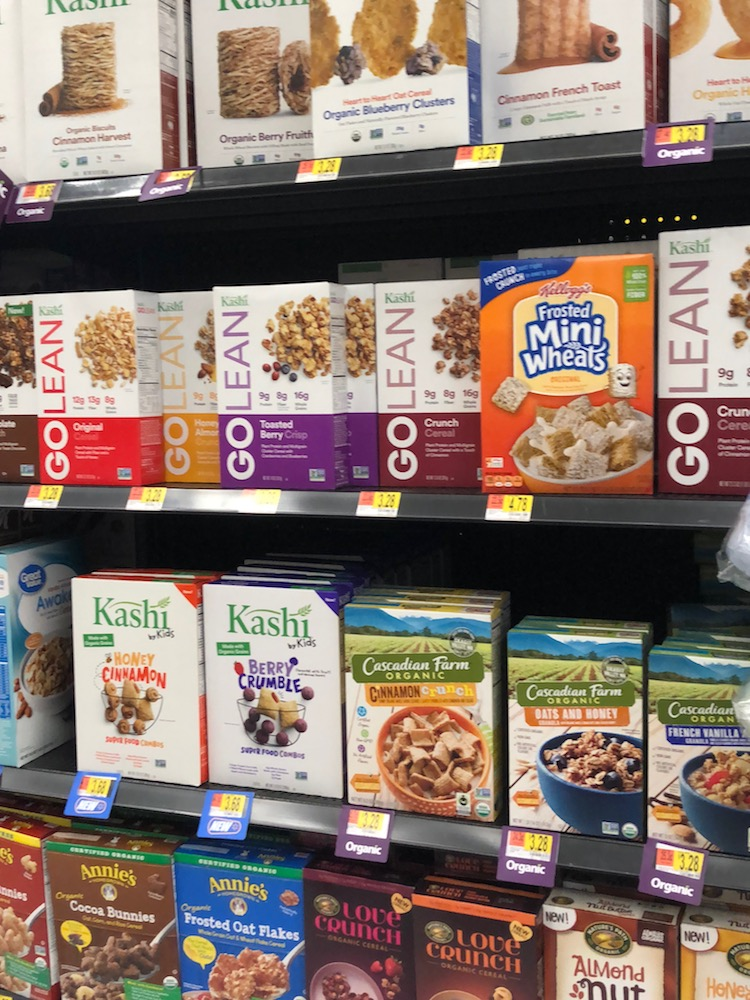Frosted Mini Original -9295869: (481, 282, 655, 497)
